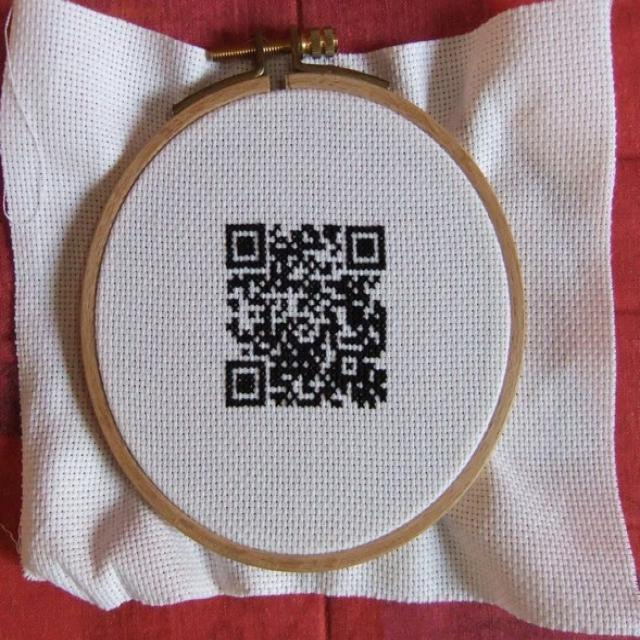qrcode: (226, 224, 388, 409)
